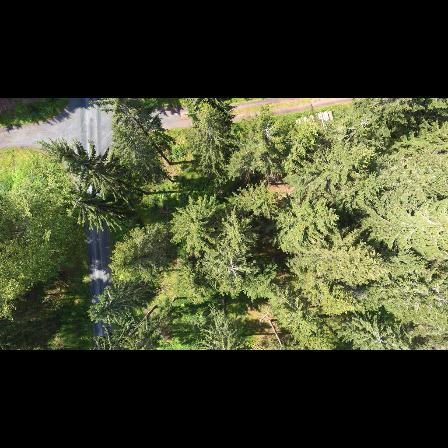Sick: (212, 249, 250, 286)
